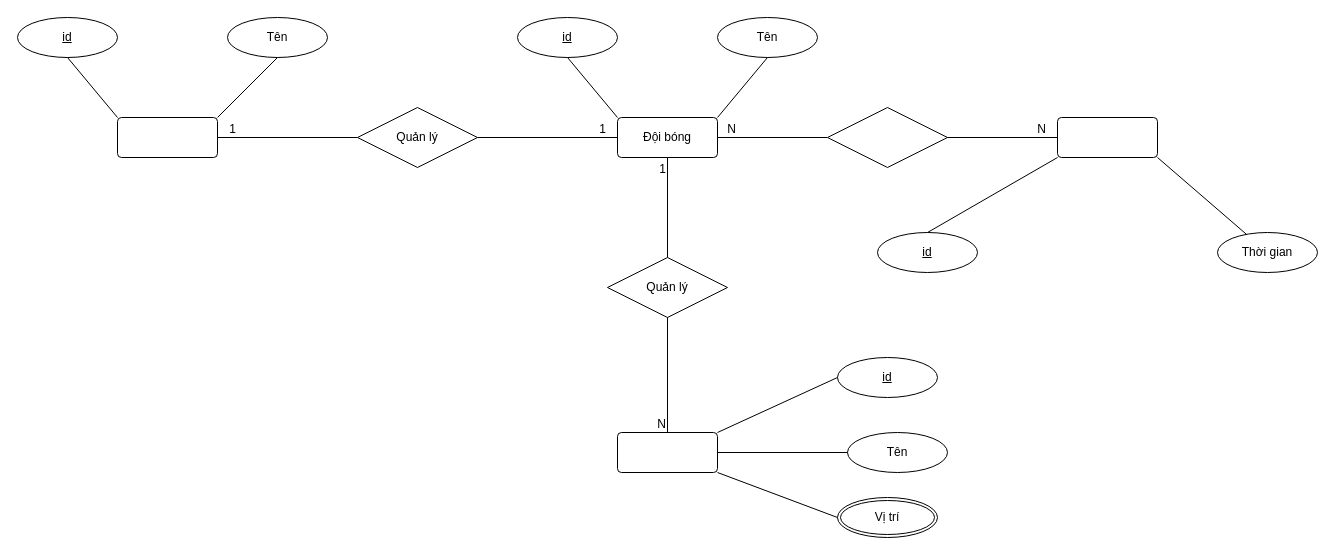
Some shapes in this 1335 by 555 pixel diagram are drawn without their labels. Each missing label, with the centre of its shape:
Cầu thủ: the point at 667,452
Huấn luyện viên: the point at 167,137
Tham gia: the point at 887,137
Trận đấu: the point at 1107,137
